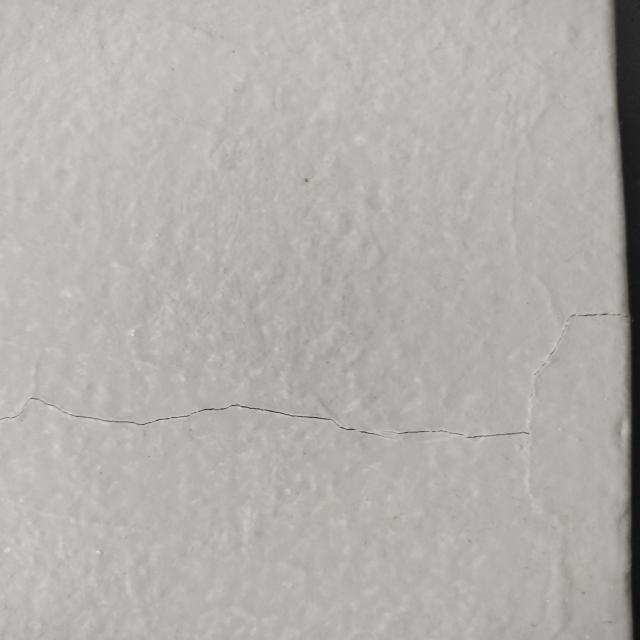Crack: (8, 395, 531, 448)
